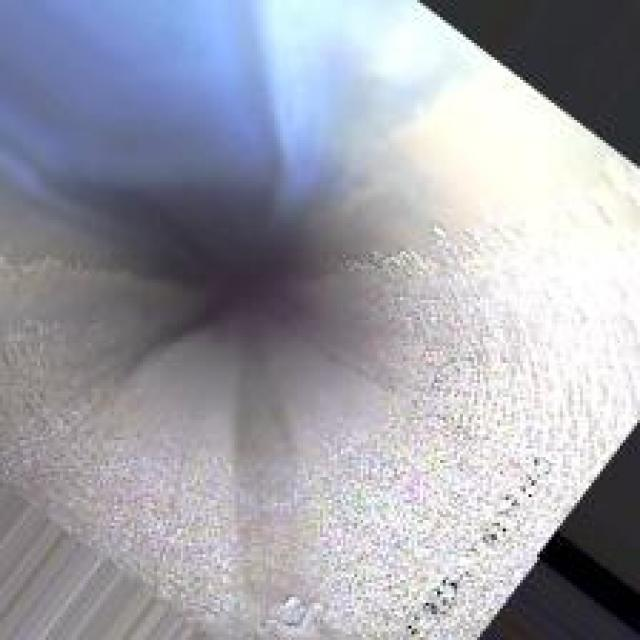ferrule: (232, 583, 328, 637)
